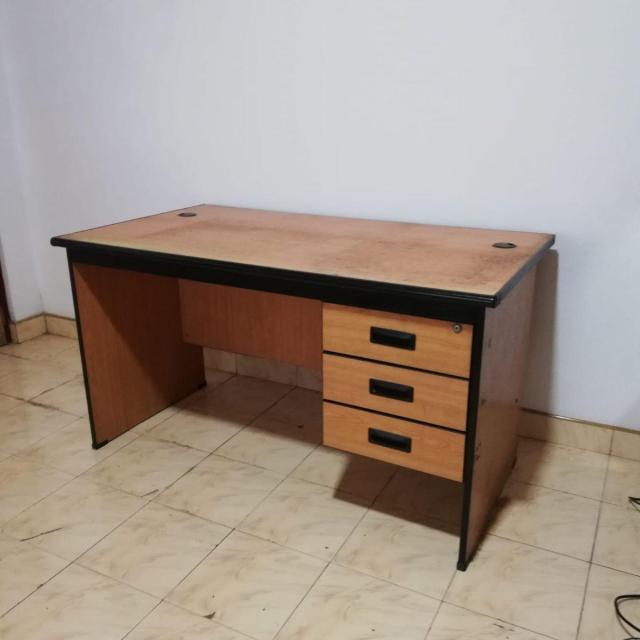table: (34, 188, 574, 586)
